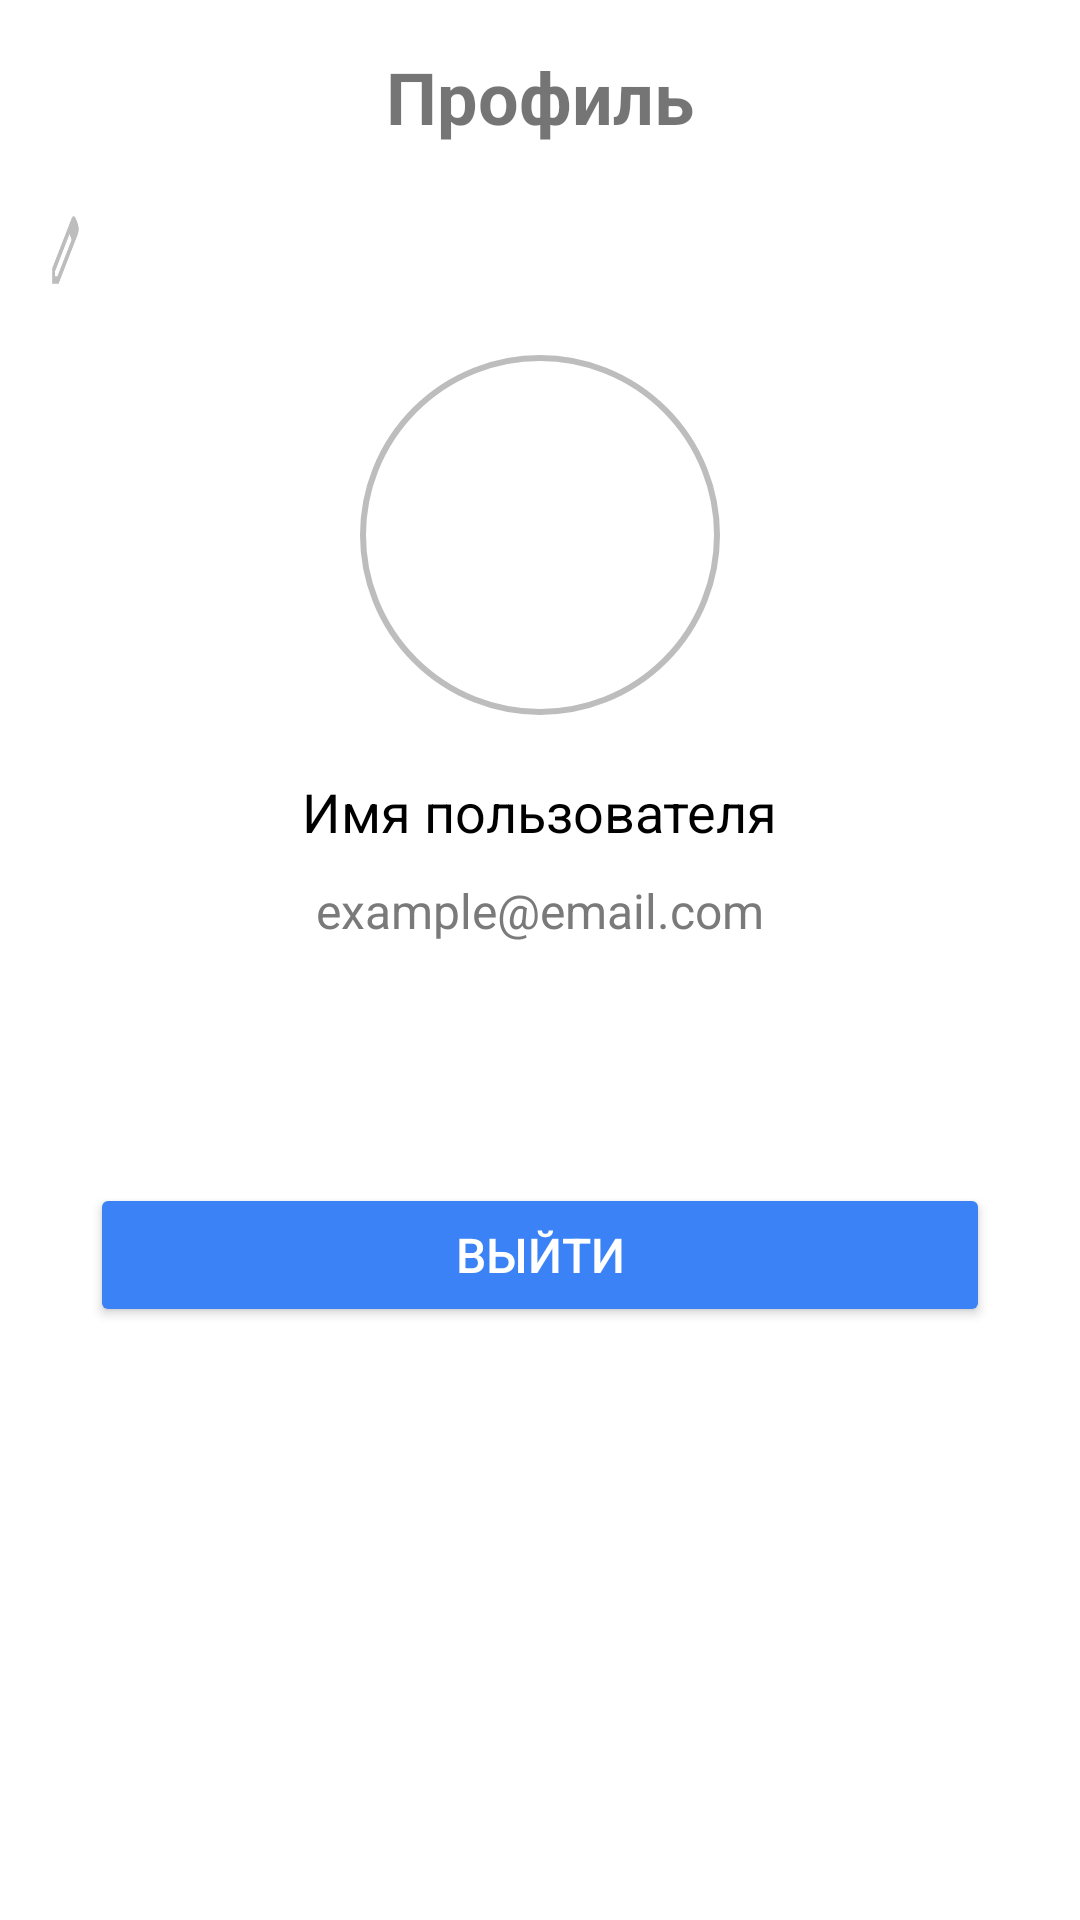

Named icons in this screenshot (1080w x 1920h) and their bounding boxes, rect(x1, y1, x2, y2):
carinfoedit: rect(52, 216, 79, 284)
